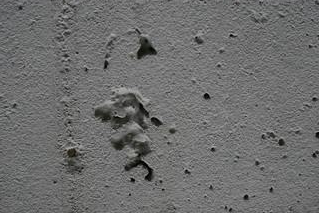Spalling: (67, 28, 319, 213)
